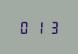one: (32, 20, 44, 34)
three: (45, 20, 57, 34)
zero: (18, 20, 30, 34)
